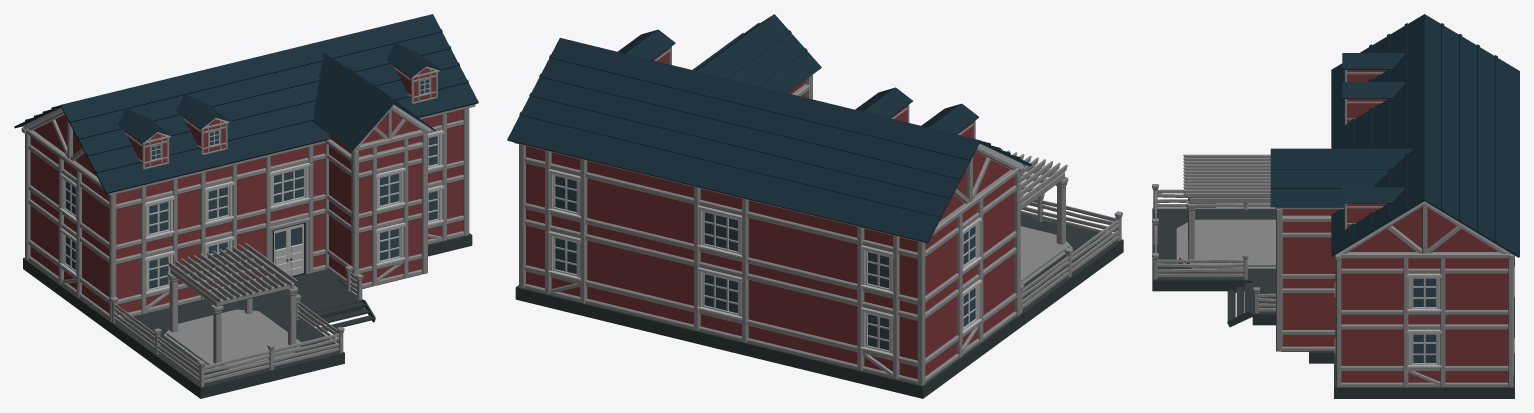
File: house_03.glb
3 renders of one model, left to right at view 1: azimuth 30°, elevation 25°; view 2: azimuth 150°, elevation 25°; view 3: azimuth 270°, elevation 25°, orthographic. The views are drawn at different scales.
Parts seen in each view (by area): view 1: house_03; view 2: house_03; view 3: house_03.
Part boxes in pixels (x1,y1,x2,y2): house_03: [14, 14, 478, 398]; house_03: [507, 14, 1123, 398]; house_03: [1152, 14, 1519, 398].
Bounding box in the file's own units: 17.96 × 9.25 × 15.06.
Materials: 1 (1 with a texture image).
